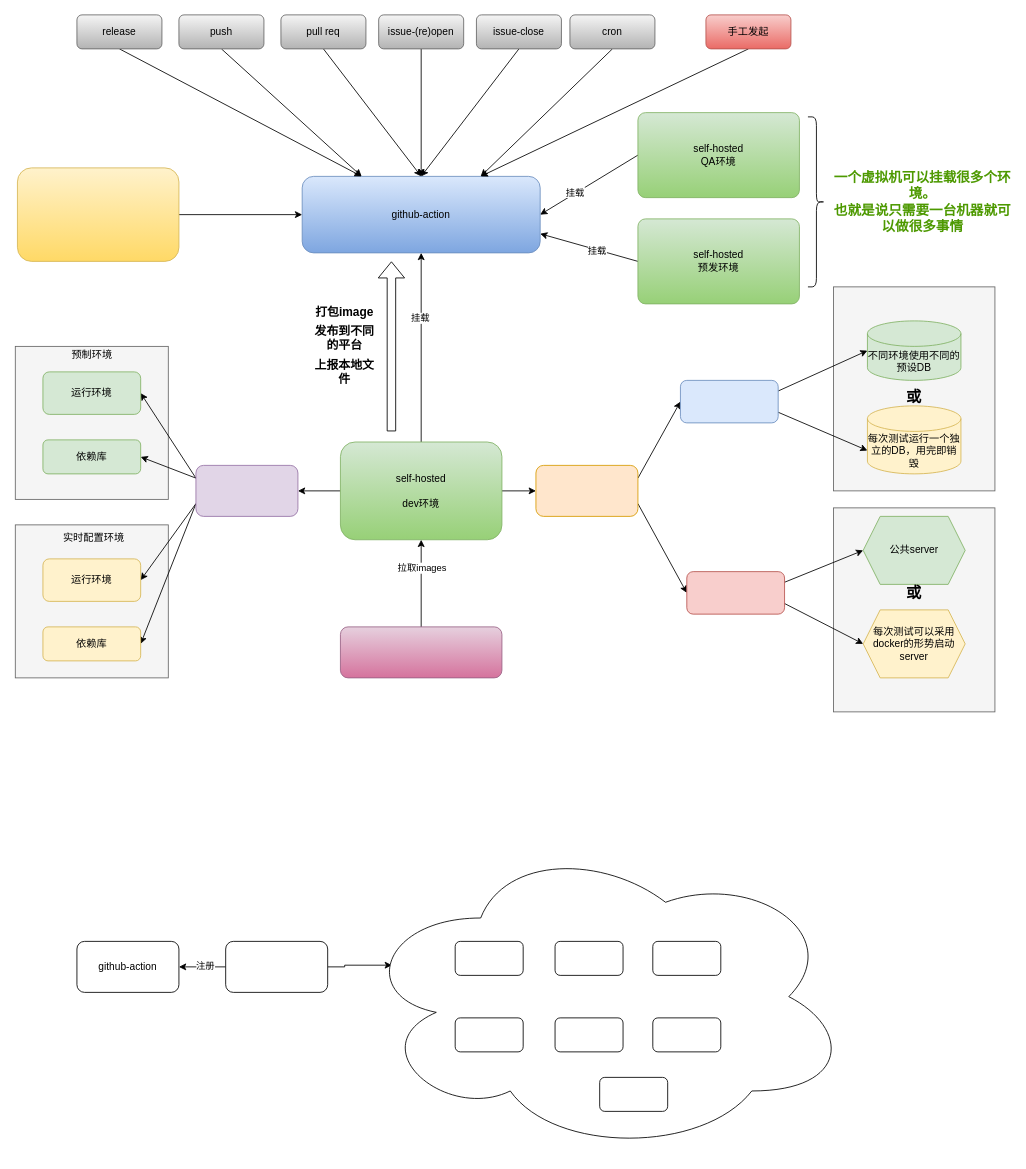
This 1026x1169 diagram has some shape labels left out. Here are the shapes that lost their labels. From the top down, the box of each, then its label:
(17, 167, 179, 261): github 托管的云服务 2C 8G 84GSSD
(680, 380, 778, 423): DB
(195, 465, 298, 516): unit-test
(535, 465, 638, 516): Integration test
(686, 571, 785, 614): server
(340, 626, 502, 678): 公用/自建docker仓库
(225, 941, 328, 992): 代理机器
